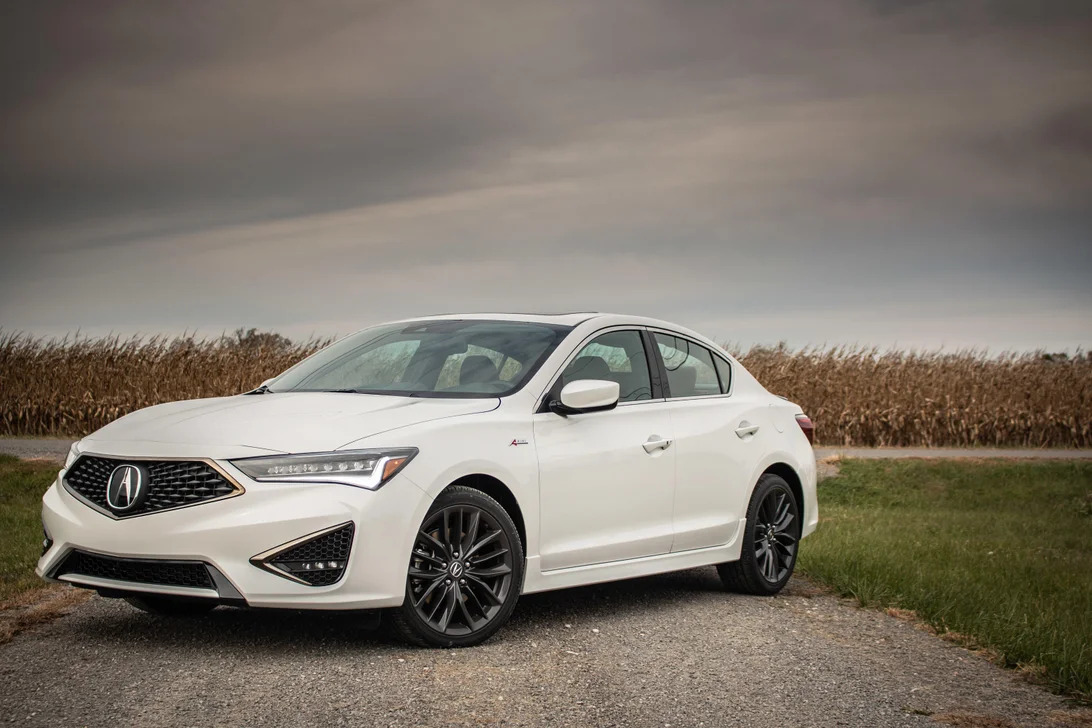Fog Lamp & Scope: (280, 537, 350, 581)
Front: (36, 400, 507, 605)
Front Bumper: (38, 516, 407, 595)
Grill: (63, 465, 229, 518)
Headlight: (238, 450, 418, 489)
